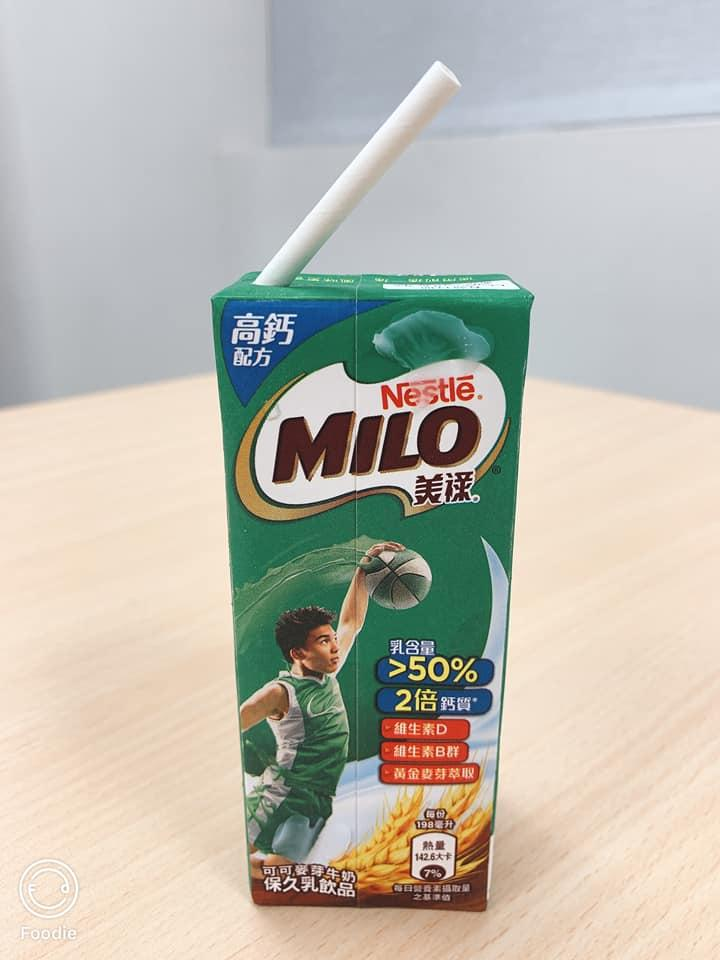cardboard: (192, 212, 558, 929)
